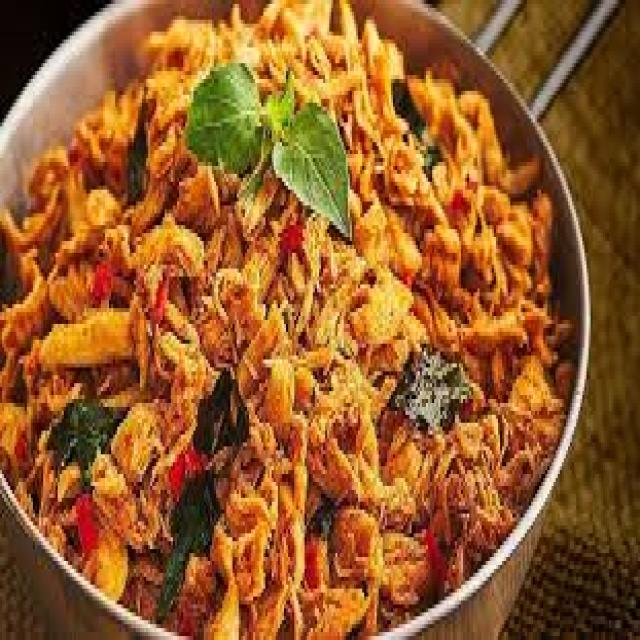ayam_suwir: (4, 0, 563, 640)
